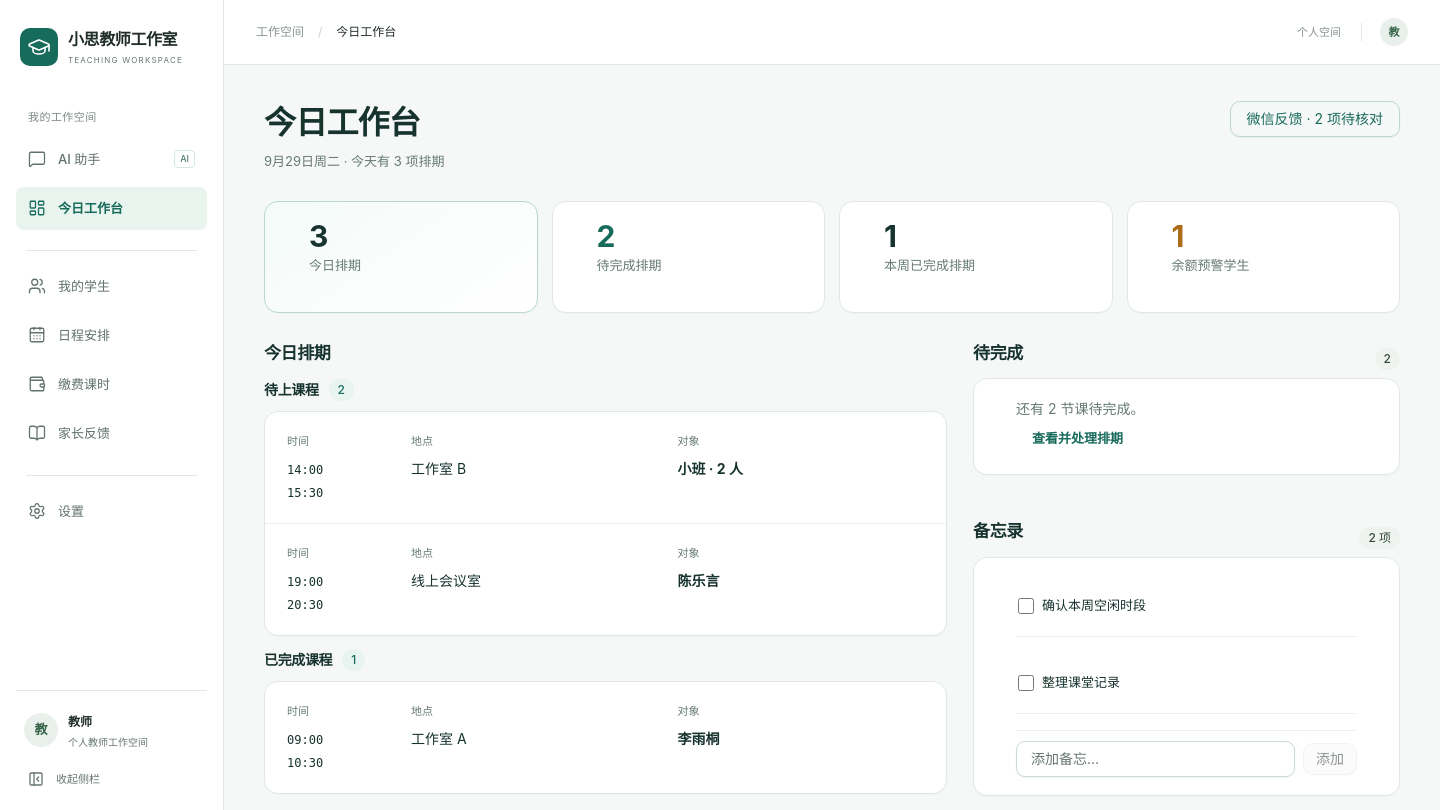
Test case: UI审查修复：工作台与缴费 › 首页以分组区分已完成和待上，取消后不计入今日排期
Expected: the button "时间 09:0010:30 地点 工作室 A 对象 李雨桐" is shown, [265,682,946,793]
Click the button with aria-label "查看 19:00 至 20:30 陈乐言".
click(305, 582)  # box [265,524,946,635]
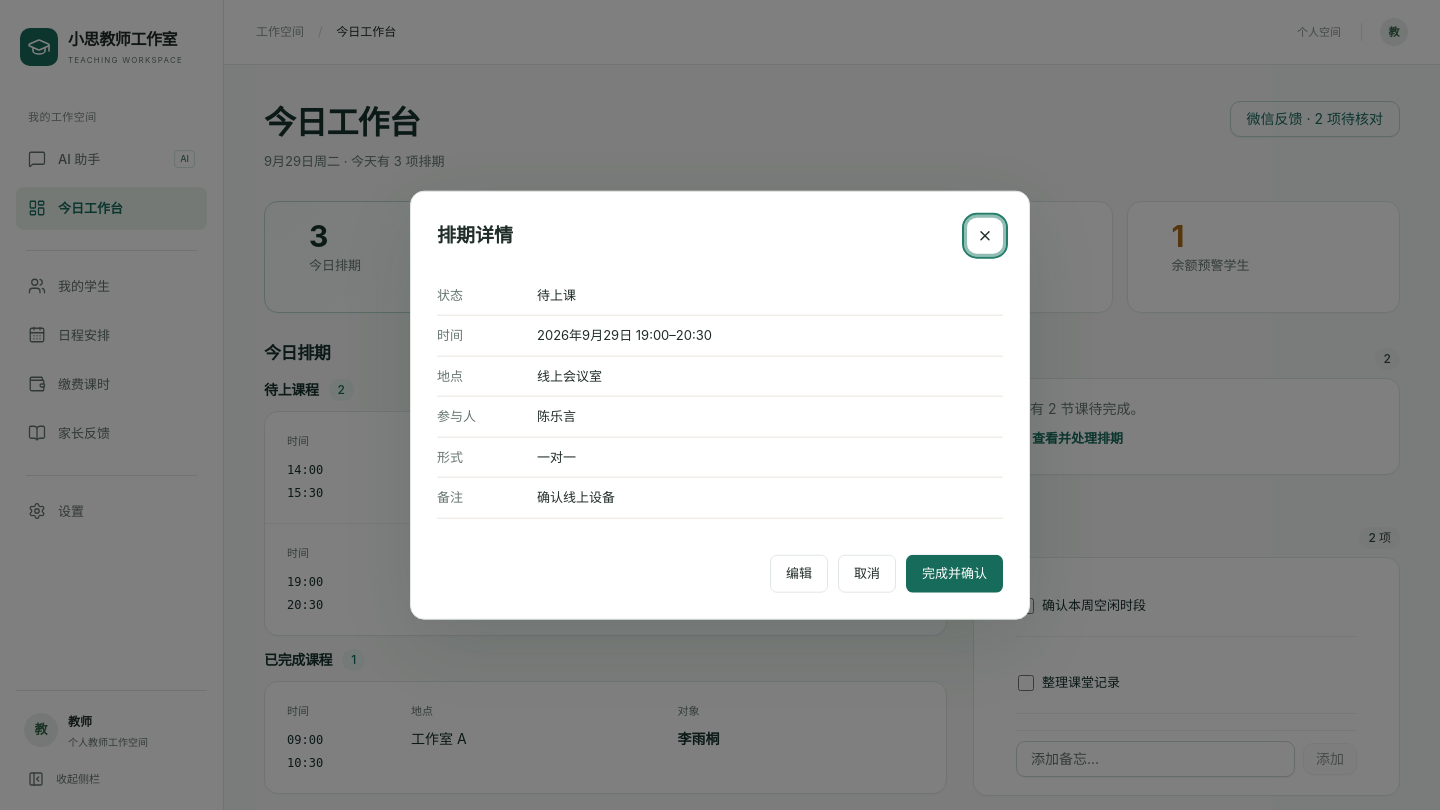
Click the button "取消".
click(867, 573)  # box [838,554,896,592]
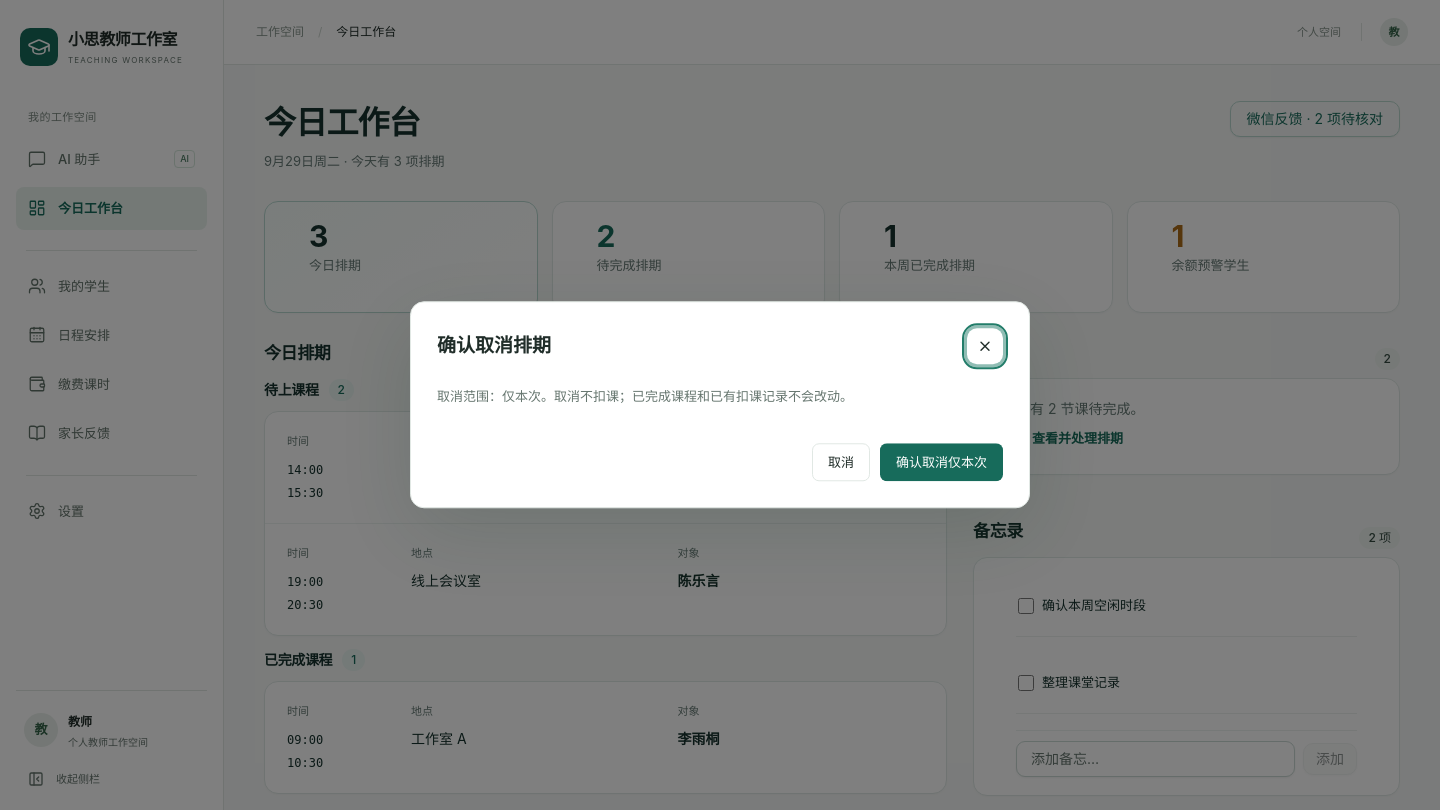
Click the button "确认取消仅本次".
click(942, 463)  # box [880,444,1003,482]
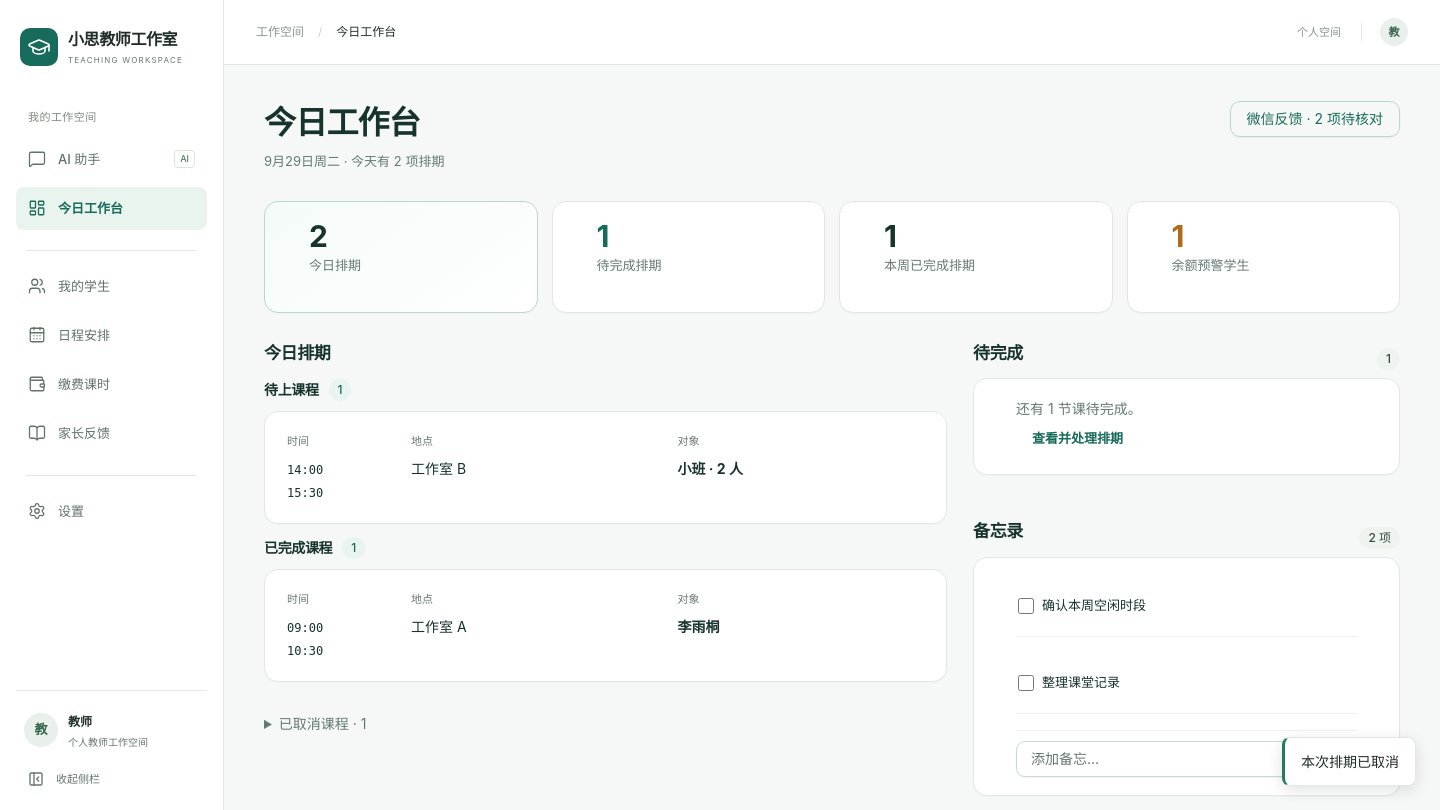
Expected: the text "今天有 2 项排期" is shown, [264,151,444,173]
Expected: the heading "已取消课程 · 1" is shown, [279,715,366,732]
Expected: the button "陈乐言" is gone
